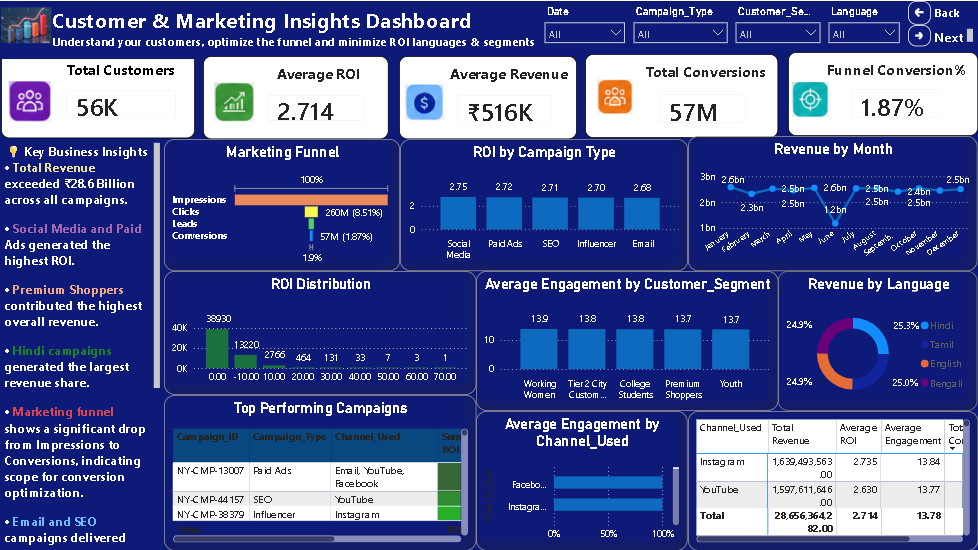

This screenshot's page, from the dashboard's own definition file:
{"tool":"powerbi","page":{"name":"Customer & Marketing Insights","canvas":[1280,720],"ordinal":2},"visuals":[{"type":"textbox","box":[1.4,67.7,265,112.3],"z":0},{"type":"textbox","box":[0,0,1278.7,76.3],"z":1000},{"type":"textbox","box":[266.4,67.7,257.8,112.3],"z":2000},{"type":"textbox","box":[522.7,67.7,270.7,112.3],"z":3000},{"type":"textbox","box":[1031,70.6,249.1,109.4],"z":4000},{"type":"textbox","box":[793.4,67.7,237.6,110.9],"z":5000},{"type":"slicer","fields":{"Values":["marketing_campaign_cleaned.Date"]},"box":[702.5,0,125.3,76.3],"z":6000},{"type":"slicer","fields":{"Values":["marketing_campaign_cleaned.Customer_Segment"]},"box":[953.3,0,130.8,75],"z":7000},{"type":"slicer","fields":{"Values":["marketing_campaign_cleaned.Campaign_Type"]},"box":[819.4,0,142.6,74.9],"z":8000},{"type":"actionButton","box":[1188.3,31.7,30,28.3],"z":9000},{"type":"textbox","box":[1218.3,30.8,60,29.2],"z":10000},{"type":"image","box":[1.4,5.8,66.2,53.3],"z":11000},{"type":"actionButton","box":[1188.3,0,30,30.8],"z":12000},{"type":"textbox","box":[1218.3,0,60,32.5],"z":13000},{"type":"slicer","fields":{"Values":["marketing_campaign_cleaned.Language"]},"box":[1075,0,113.3,75],"z":14000},{"type":"cardVisual","fields":{"Data":["marketing_campaign_cleaned.Total Customers"]},"box":[133.9,108,118.1,70.6],"z":20000},{"type":"cardVisual","fields":{"Data":["marketing_campaign_cleaned.Average ROI"]},"box":[368.6,106.6,139.7,69.1],"z":21000},{"type":"cardVisual","fields":{"Data":["marketing_campaign_cleaned.Average Revenue"]},"box":[637.9,102.2,149.8,70.6],"z":22000},{"type":"cardVisual","fields":{"Data":["marketing_campaign_cleaned.Total Conversions"]},"box":[888.5,102.2,128.2,73.4],"z":23000},{"type":"cardVisual","fields":{"Data":["marketing_campaign_cleaned.Funnel Conversion %"]},"box":[1131.8,102.2,141.1,73.4],"z":24000},{"type":"donutChart","title":"Revenue by Language","fields":{"Category":["marketing_campaign_cleaned.Language"],"Y":["marketing_campaign_cleaned.Total Revenue"]},"box":[1018.9,353.3,261.1,183.3],"z":25000},{"type":"clusteredColumnChart","title":"ROI by Campaign Type","fields":{"Category":["marketing_campaign_cleaned.Campaign_Type"],"Y":["marketing_campaign_cleaned.Average ROI"]},"box":[524.2,180,376.7,173.3],"z":26000},{"type":"funnel","title":"Marketing Funnel","fields":{"Category":["Marketing Funnel.Stage"],"Y":["Marketing Funnel.Funnel Value"]},"box":[214.6,180,308.9,173.3],"z":27000},{"type":"clusteredColumnChart","fields":{"Category":["marketing_campaign_cleaned.Customer_Segment"],"Y":["marketing_campaign_cleaned.Average Engagement"]},"box":[623.3,353.3,395.6,183.3],"z":28000},{"type":"pivotTable","fields":{"Values":["marketing_campaign_cleaned.Total Revenue","marketing_campaign_cleaned.Average ROI","marketing_campaign_cleaned.Average Engagement","marketing_campaign_cleaned.Total Conversions"],"Rows":["marketing_campaign_cleaned.Channel_Used"]},"box":[900,537.1,378.7,182.9],"z":29000},{"type":"lineChart","title":"Revenue by Month","fields":{"Category":["marketing_campaign_cleaned.Date.Variation.Date Hierarchy.Month"],"Y":["marketing_campaign_cleaned.Total Revenue"]},"box":[901.4,178.6,378.9,176.7],"z":30000},{"type":"tableEx","title":"Top Performing Campaigns","fields":{"Values":["marketing_campaign_cleaned.Campaign_ID","marketing_campaign_cleaned.Campaign_Type","marketing_campaign_cleaned.Channel_Used","Sum(marketing_campaign_cleaned.ROI)","Sum(marketing_campaign_cleaned.Revenue)","Sum(marketing_campaign_cleaned.Conversions)"]},"box":[214.4,515.6,408.9,204.4],"z":31000},{"type":"hundredPercentStackedBarChart","fields":{"Category":["marketing_campaign_cleaned.Channel_Used"],"Y":["marketing_campaign_cleaned.Average Engagement"]},"box":[623.3,536.7,276.7,183.3],"z":32000},{"type":"clusteredColumnChart","title":"ROI Distribution","fields":{"Category":["marketing_campaign_cleaned.ROI (bins)"],"Y":["CountNonNull(marketing_campaign_cleaned.Campaign_ID)"]},"box":[214.4,353.3,408.9,162.2],"z":33000},{"type":"textbox","box":[1.4,180,212.9,540],"z":34000}]}

Visuals, with their boxes in screenshot pixels (x1, y1, x2, y2), scaled from the page's 1280x720 canvas onto the 978x550 screenshot:
textbox: [left=1, top=52, right=204, bottom=138]
textbox: [left=0, top=0, right=977, bottom=58]
textbox: [left=204, top=52, right=401, bottom=138]
textbox: [left=399, top=52, right=606, bottom=138]
textbox: [left=788, top=54, right=977, bottom=138]
textbox: [left=606, top=52, right=788, bottom=136]
slicer - marketing_campaign_cleaned.Date: [left=537, top=0, right=632, bottom=58]
slicer - marketing_campaign_cleaned.Customer_Segment: [left=728, top=0, right=828, bottom=57]
slicer - marketing_campaign_cleaned.Campaign_Type: [left=626, top=0, right=735, bottom=57]
actionButton: [left=908, top=24, right=931, bottom=46]
textbox: [left=931, top=24, right=977, bottom=46]
image: [left=1, top=4, right=52, bottom=45]
actionButton: [left=908, top=0, right=931, bottom=24]
textbox: [left=931, top=0, right=977, bottom=25]
slicer - marketing_campaign_cleaned.Language: [left=821, top=0, right=908, bottom=57]
cardVisual - marketing_campaign_cleaned.Total Customers: [left=102, top=82, right=193, bottom=136]
cardVisual - marketing_campaign_cleaned.Average ROI: [left=282, top=81, right=388, bottom=134]
cardVisual - marketing_campaign_cleaned.Average Revenue: [left=487, top=78, right=602, bottom=132]
cardVisual - marketing_campaign_cleaned.Total Conversions: [left=679, top=78, right=777, bottom=134]
cardVisual - marketing_campaign_cleaned.Funnel Conversion %: [left=865, top=78, right=973, bottom=134]
"Revenue by Language" donutChart: [left=779, top=270, right=977, bottom=410]
"ROI by Campaign Type" clusteredColumnChart: [left=401, top=138, right=688, bottom=270]
"Marketing Funnel" funnel: [left=164, top=138, right=400, bottom=270]
clusteredColumnChart - marketing_campaign_cleaned.Customer_Segment x marketing_campaign_cleaned.Average Engagement: [left=476, top=270, right=779, bottom=410]
pivotTable - marketing_campaign_cleaned.Total Revenue x marketing_campaign_cleaned.Average ROI: [left=688, top=410, right=977, bottom=549]
"Revenue by Month" lineChart: [left=689, top=136, right=977, bottom=271]
"Top Performing Campaigns" tableEx: [left=164, top=394, right=476, bottom=549]
hundredPercentStackedBarChart - marketing_campaign_cleaned.Channel_Used x marketing_campaign_cleaned.Average Engagement: [left=476, top=410, right=688, bottom=549]
"ROI Distribution" clusteredColumnChart: [left=164, top=270, right=476, bottom=394]
textbox: [left=1, top=138, right=164, bottom=549]
